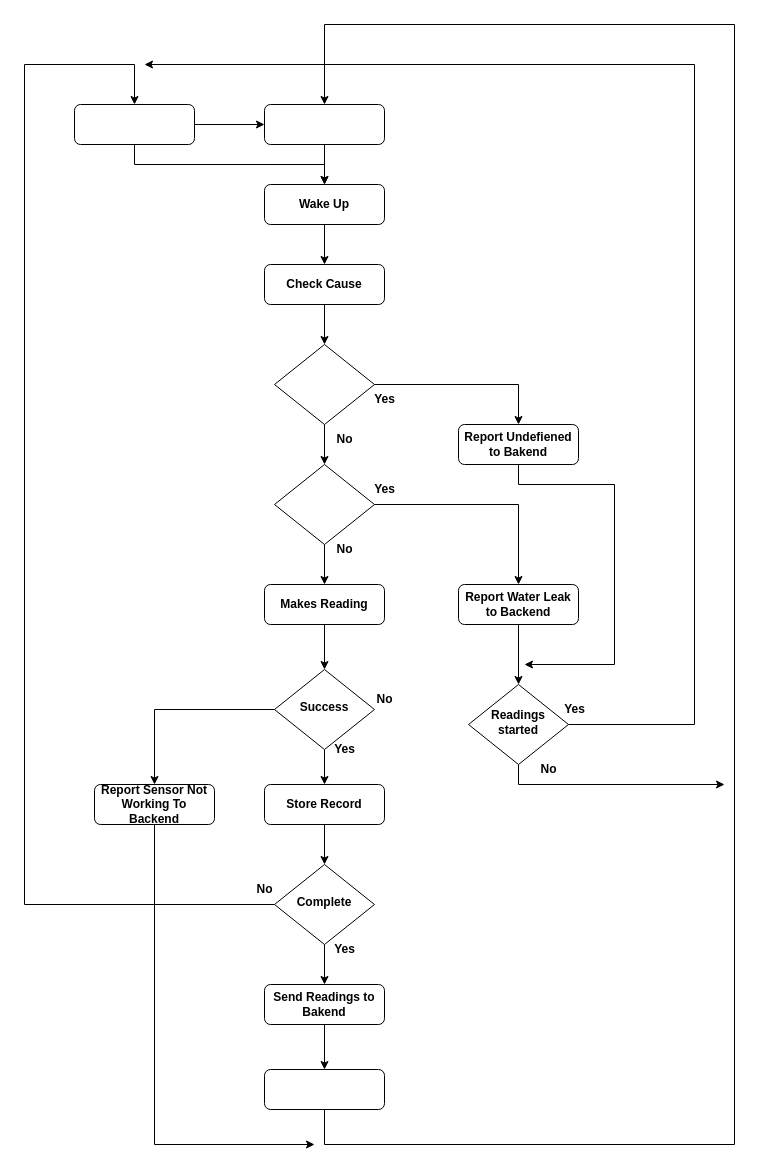
Some shapes in this 760 by 1170 pixel diagram are drawn without their labels. Here are the shapes that lost their labels. From the top down, the centre of each, then its label:
At pixel 134 124: "Short Sleep".
At pixel 324 124: "Long Sleep".
At pixel 324 384: "Undefiined".
At pixel 324 504: "Water Leak".
At pixel 324 1089: "Erase Records".
